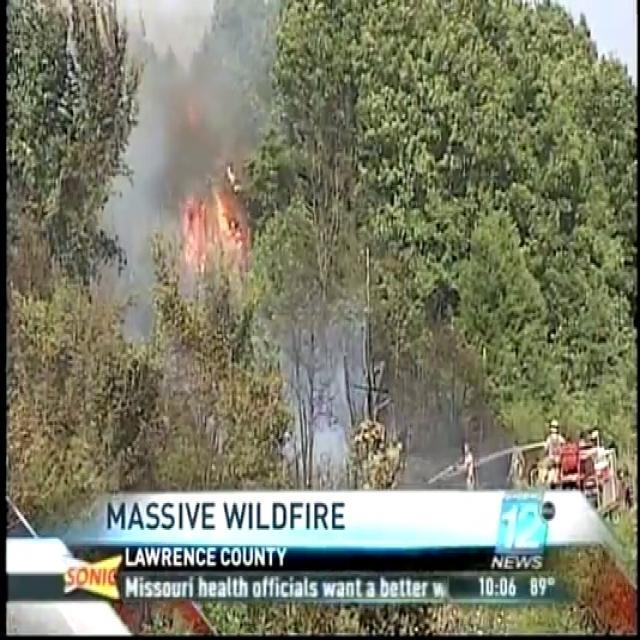Fire: (173, 172, 245, 280)
Smoke: (103, 0, 282, 318)
